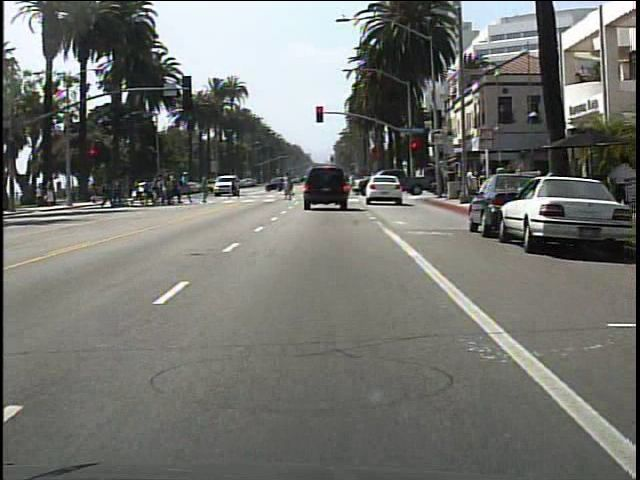person: (605, 153, 640, 237), (347, 166, 364, 203), (226, 170, 245, 203)
